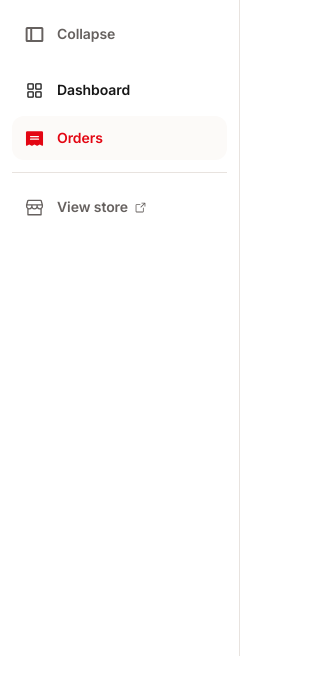
Test: desktop admin sidebar › opens by default with recognizable navigation and persists collapse
Expected: the icon next to "Orders" is shown, [24,128,45,148]
Click the button with aria-label "Collapse sidebar". click: (120, 34)
box: [12,12,227,56]
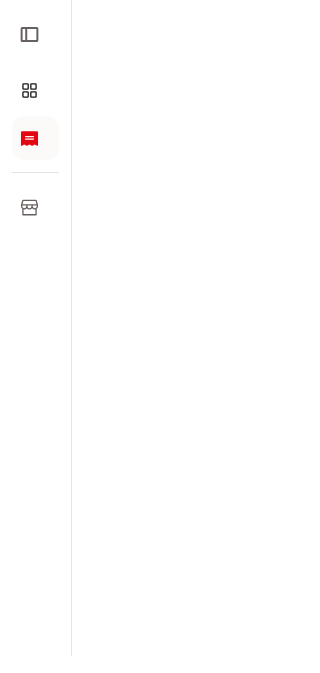
Result: the button named "Expand sidebar" is collapsed at [12,12,59,56]
